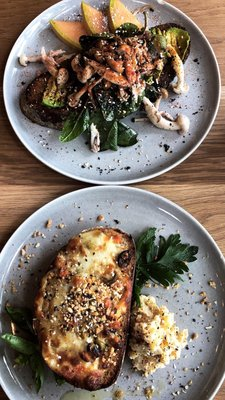curry: (138, 229, 198, 289)
sushi: (0, 185, 225, 399), (2, 1, 222, 185)
